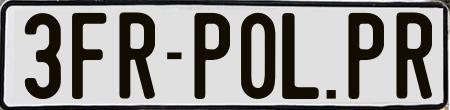0: (241, 12, 280, 104)
3: (22, 12, 58, 104)
F: (71, 10, 107, 100)
L: (282, 10, 324, 96)
P: (191, 10, 230, 102), (347, 12, 383, 99)
R: (393, 12, 434, 100), (118, 9, 157, 97)
